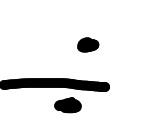div: (0, 37, 110, 113)
